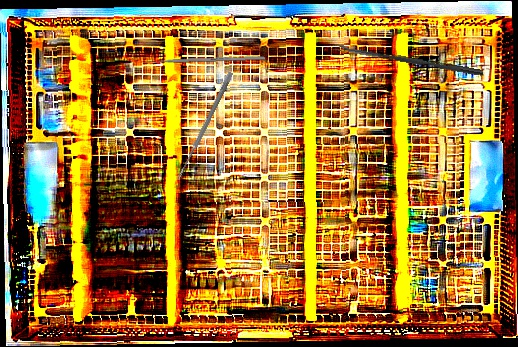Pusher: (138, 55, 266, 65)
Surgical Spoon: (175, 71, 234, 181), (334, 43, 484, 76)
